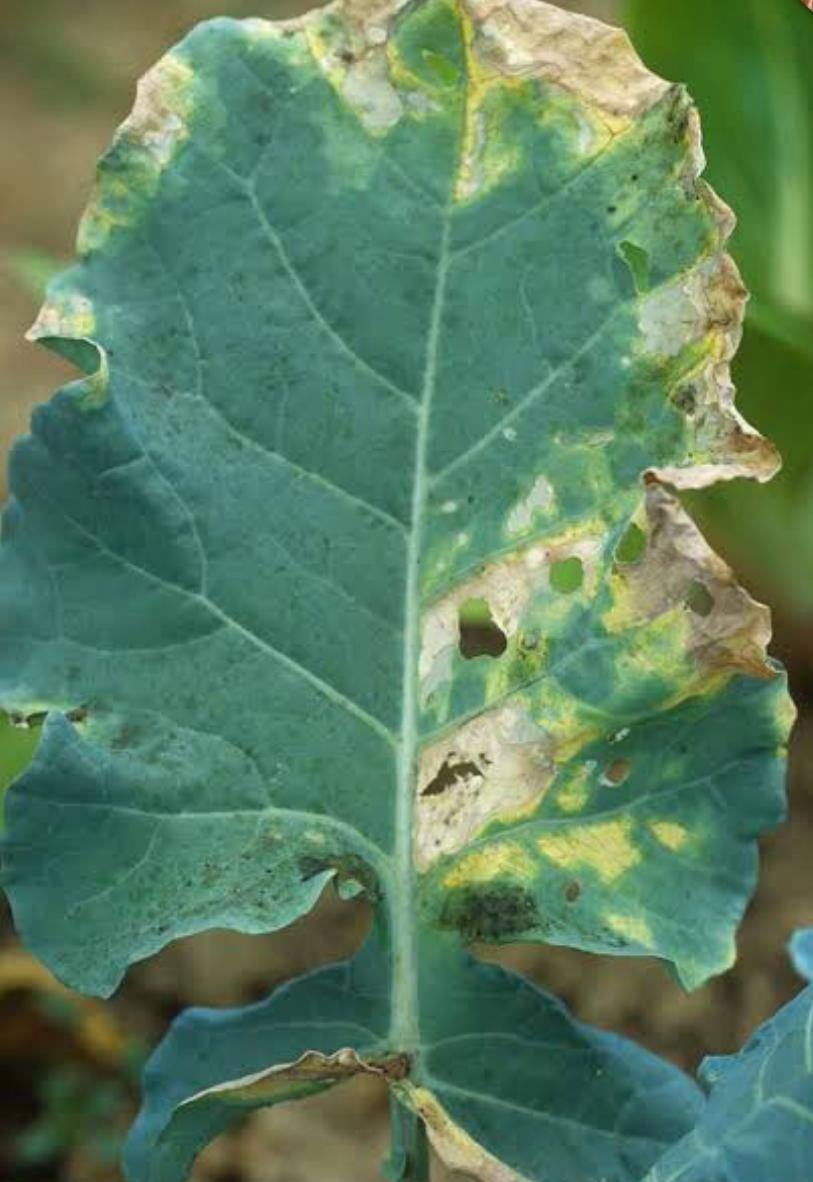Bok-Choy-Diseased: (121, 0, 739, 953)
